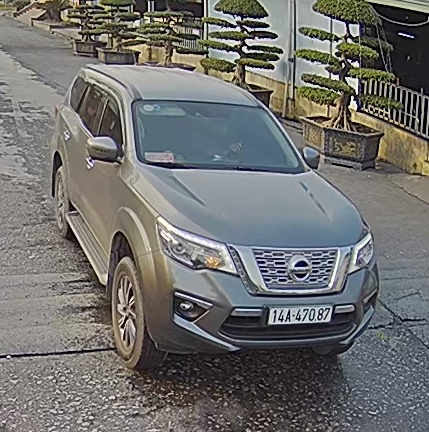vehicle plate: (264, 301, 336, 324)
